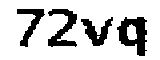2: (46, 5, 80, 50)
7: (11, 1, 46, 52)
q: (117, 17, 151, 60)
v: (80, 16, 115, 50)
